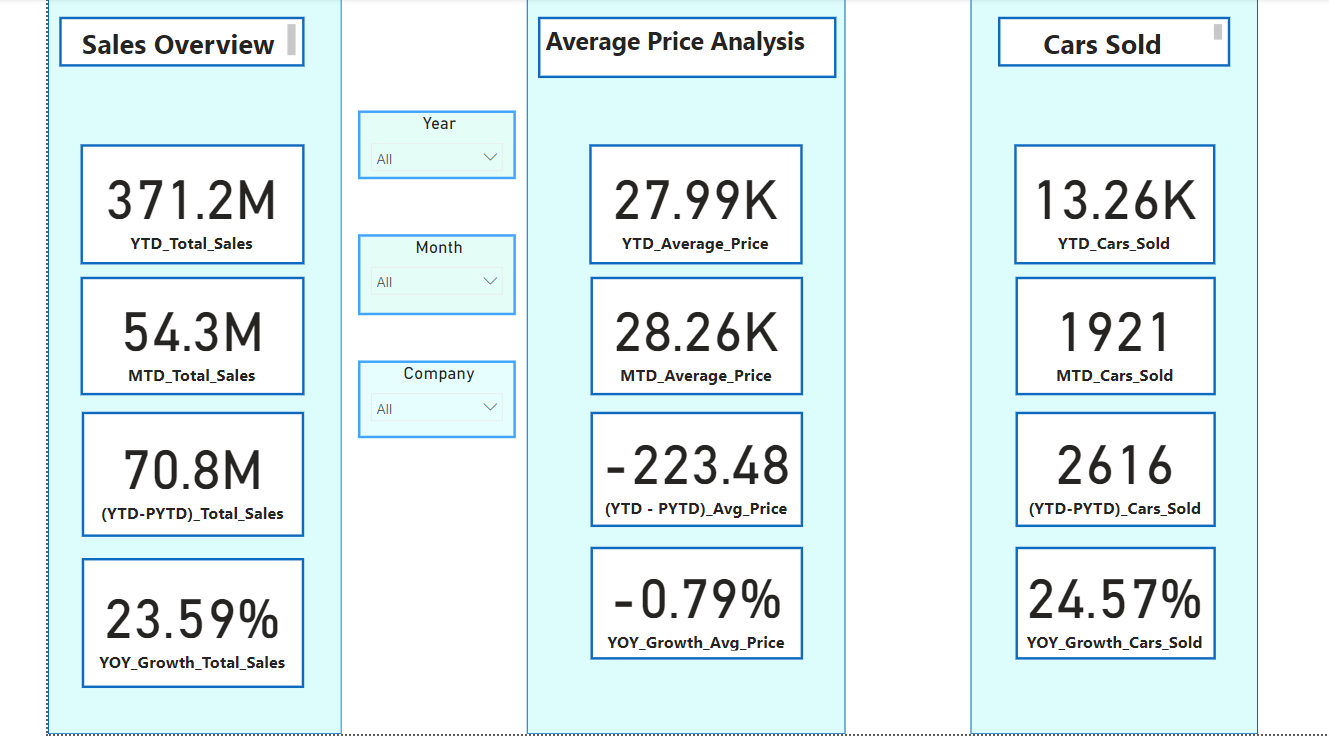

Layout of this report page (visuals, bound fields, positions):
{"tool":"powerbi","page":{"name":"KPI's","canvas":[1280,720],"ordinal":0},"visuals":[{"type":"shape","box":[0,0,287.4,720.2],"z":500},{"type":"shape","box":[902.5,0,281.3,720.2],"z":1000},{"type":"shape","box":[468.3,0,311.8,720.2],"z":2000},{"type":"card","fields":{"Values":["Sheet1.YTD_Total_Sales"]},"box":[31.8,143.1,218.9,117.4],"z":3000},{"type":"card","fields":{"Values":["Sheet1.YOY_Growth_Total_Sales"]},"box":[33,547.8,217.7,127.2],"z":4000},{"type":"card","fields":{"Values":["Sheet1.(YTD-PYTD)_Total_Sales"]},"box":[33,404.8,217.7,122.3],"z":5000},{"type":"card","fields":{"Values":["Sheet1.MTD_Total_Sales"]},"box":[31.8,272.7,218.9,116.2],"z":6000},{"type":"textbox","box":[11,18.3,239.7,48.9],"z":7000},{"type":"card","fields":{"Values":["Sheet1.YTD_Cars_Sold"]},"box":[945.2,143.1,196.9,117.4],"z":8000},{"type":"card","fields":{"Values":["Sheet1.MTD_Cars_Sold"]},"box":[946.5,272.7,195.7,116.2],"z":9000},{"type":"card","fields":{"Values":["Sheet1.(YTD-PYTD)_Cars_Sold"]},"box":[946.5,404.8,195.7,112.5],"z":10000},{"type":"card","fields":{"Values":["Sheet1.YOY_Growth_Cars_Sold"]},"box":[946.5,536.8,195.7,110.1],"z":11000},{"type":"textbox","box":[929.4,18.3,227.4,48.9],"z":12000},{"type":"card","fields":{"Values":["Sheet1.YTD_Average_Price"]},"box":[529.5,143.1,209.1,117.4],"z":13000},{"type":"card","fields":{"Values":["Sheet1.MTD_Average_Price"]},"box":[530.7,272.7,207.9,116.2],"z":14000},{"type":"card","fields":{"Values":["Sheet1.(YTD - PYTD)_Avg_Price"]},"box":[530.7,404.8,207.9,112.5],"z":15000},{"type":"card","fields":{"Values":["Sheet1.YOY_Growth_Avg_Price"]},"box":[530.7,536.8,207.9,110.1],"z":16000},{"type":"textbox","box":[479.4,18.3,292.3,59.9],"z":17000},{"type":"slicer","title":"Year","fields":{"Values":["Dates.Year"]},"box":[303.3,110.1,154.1,67.3],"z":17001},{"type":"slicer","title":"Month","fields":{"Values":["Dates.Month_name"]},"box":[303.3,231.1,154.1,79.5],"z":17002},{"type":"slicer","title":"Company","fields":{"Values":["Sheet1.Company"]},"box":[303.3,354.6,154.1,75.8],"z":17003}]}

Visuals, with their boxes in screenshot pixels (x1, y1, x2, y2), scaled from the page's 1280x720 canvas onto the 1329x736 screenshot:
shape: Rect(0, 0, 298, 735)
shape: Rect(937, 0, 1229, 735)
shape: Rect(486, 0, 810, 735)
card - Sheet1.YTD_Total_Sales: Rect(33, 146, 260, 266)
card - Sheet1.YOY_Growth_Total_Sales: Rect(34, 560, 260, 690)
card - Sheet1.(YTD-PYTD)_Total_Sales: Rect(34, 414, 260, 539)
card - Sheet1.MTD_Total_Sales: Rect(33, 279, 260, 398)
textbox: Rect(11, 19, 260, 69)
card - Sheet1.YTD_Cars_Sold: Rect(981, 146, 1186, 266)
card - Sheet1.MTD_Cars_Sold: Rect(983, 279, 1186, 398)
card - Sheet1.(YTD-PYTD)_Cars_Sold: Rect(983, 414, 1186, 529)
card - Sheet1.YOY_Growth_Cars_Sold: Rect(983, 549, 1186, 661)
textbox: Rect(965, 19, 1201, 69)
card - Sheet1.YTD_Average_Price: Rect(550, 146, 767, 266)
card - Sheet1.MTD_Average_Price: Rect(551, 279, 767, 398)
card - Sheet1.(YTD - PYTD)_Avg_Price: Rect(551, 414, 767, 529)
card - Sheet1.YOY_Growth_Avg_Price: Rect(551, 549, 767, 661)
textbox: Rect(498, 19, 801, 80)
"Year" slicer: Rect(315, 113, 475, 181)
"Month" slicer: Rect(315, 236, 475, 318)
"Company" slicer: Rect(315, 362, 475, 440)
